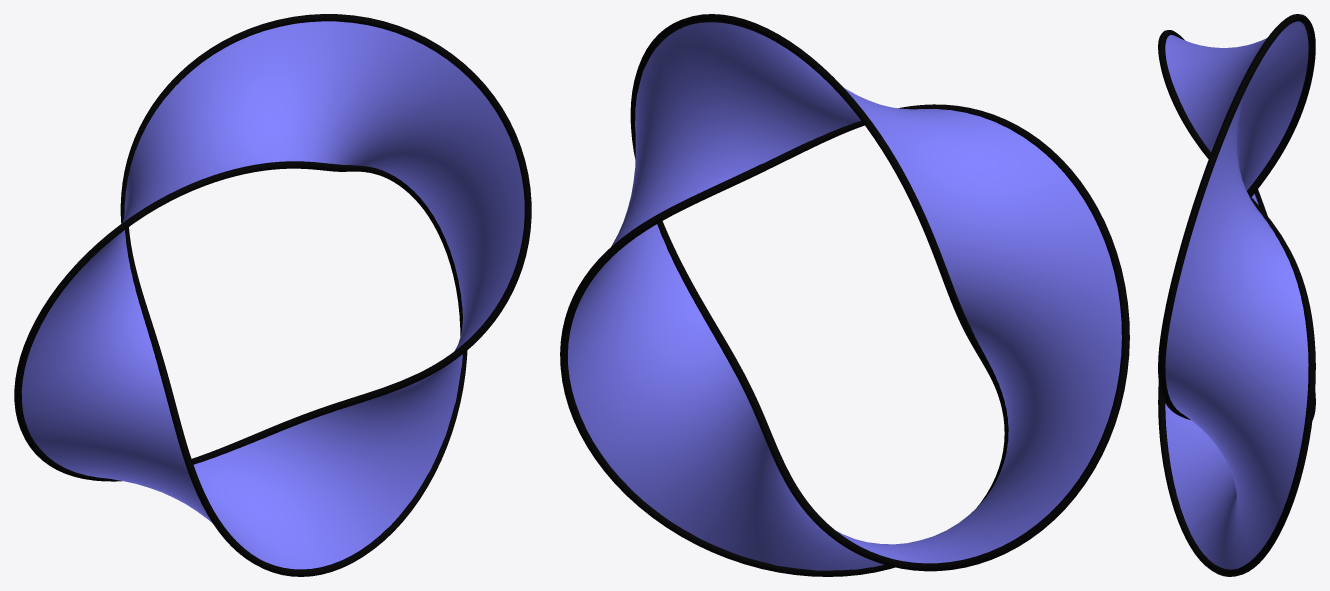
The model's file is UniTorus-equals.dae.
The picture shows the model from 3 angles, left to right: view 1: azimuth 30°, elevation 25°; view 2: azimuth 150°, elevation 25°; view 3: azimuth 270°, elevation 25°; orthographic projection. The views are drawn at different scales.
Parts seen in each view (by area): view 1: Section, BoundS; view 2: Section, BoundS; view 3: Section, BoundS.
Boxes of the visible parts, x1=… form: Section: x1=21, y1=21, x2=524, y2=569; BoundS: x1=14, y1=14, x2=531, y2=576; Section: x1=568, y1=22, x2=1121, y2=570; BoundS: x1=560, y1=14, x2=1129, y2=576; Section: x1=1165, y1=21, x2=1308, y2=569; BoundS: x1=1158, y1=14, x2=1315, y2=576.
Bounding box in the file's own units: 7.39 × 2.1 × 7.71.
